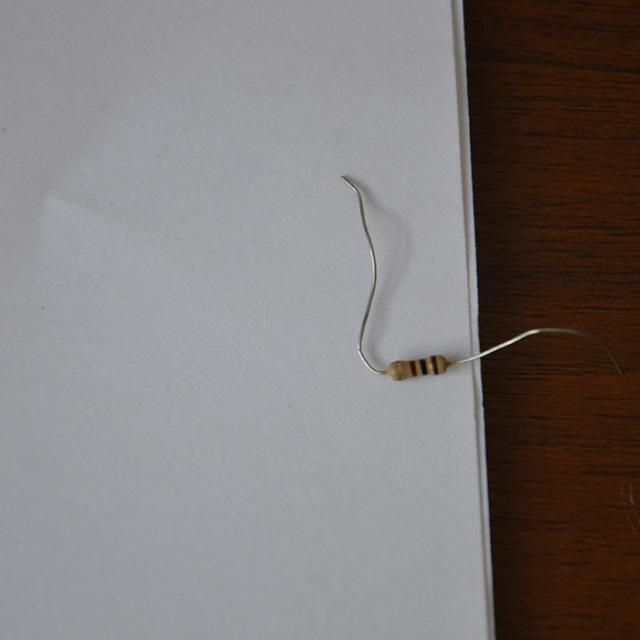Resistor Carbon-Film: (392, 354, 448, 384)
